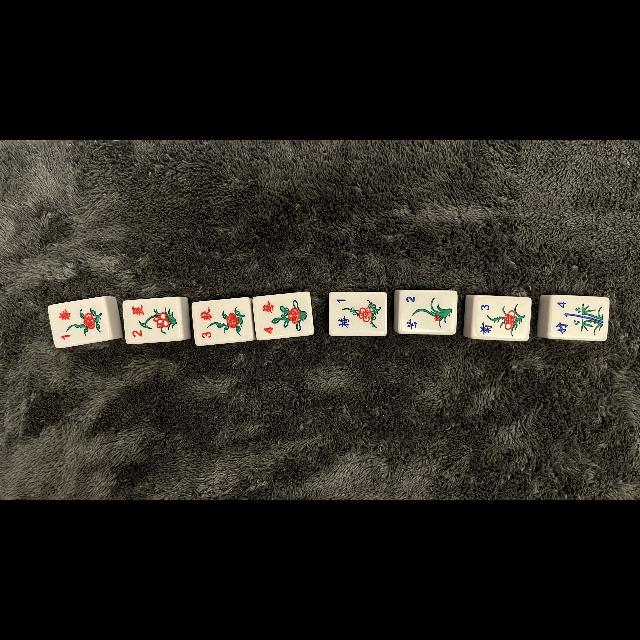f1: (330, 293, 354, 333)
f2: (400, 292, 420, 334)
f3: (473, 296, 495, 340)
f4: (550, 297, 572, 339)
s1: (52, 300, 76, 346)
s2: (124, 300, 150, 344)
s3: (195, 302, 218, 344)
s4: (256, 296, 280, 338)
